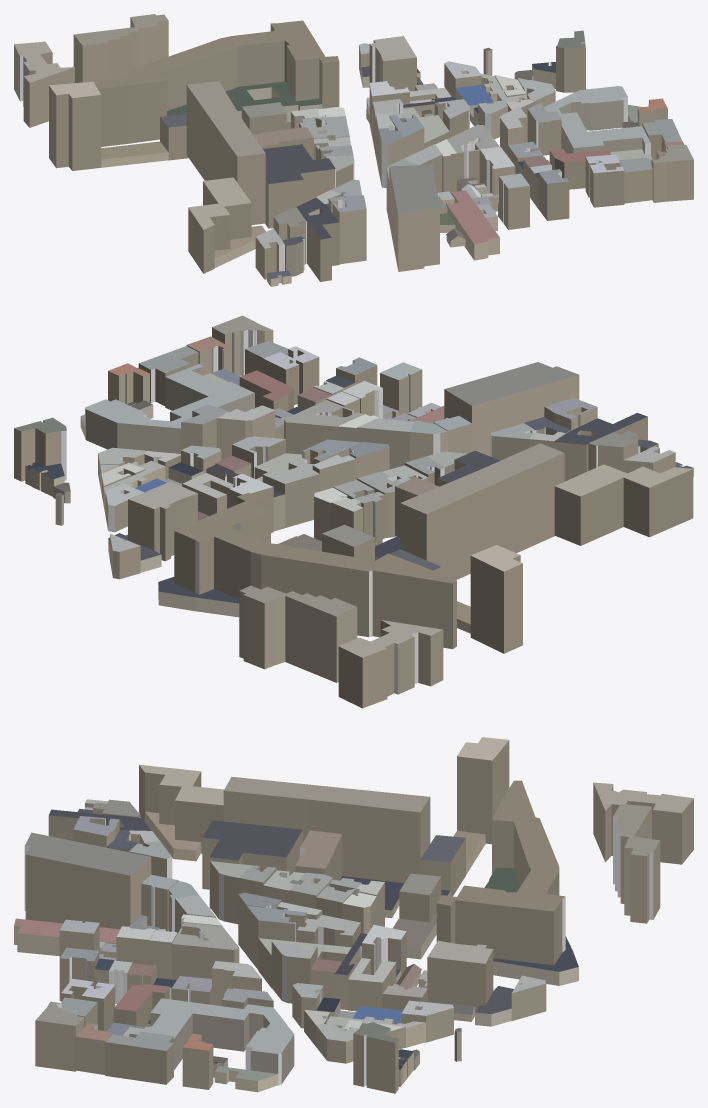
3 views of the same model, one above another, from view 1: azimuth 30°, elevation 25°; view 2: azimuth 150°, elevation 25°; view 3: azimuth 270°, elevation 25° (orthographic). The views are drawn at different scales.
Parts seen in each view (by area): view 1: tuile; view 2: tuile; view 3: tuile.
Part boxes in pixels (x1,y1,x2,y2): tuile: [14, 14, 693, 286]; tuile: [14, 315, 693, 708]; tuile: [14, 737, 693, 1093].
Size of the model in its own units: 265 by 39.15 by 276.
